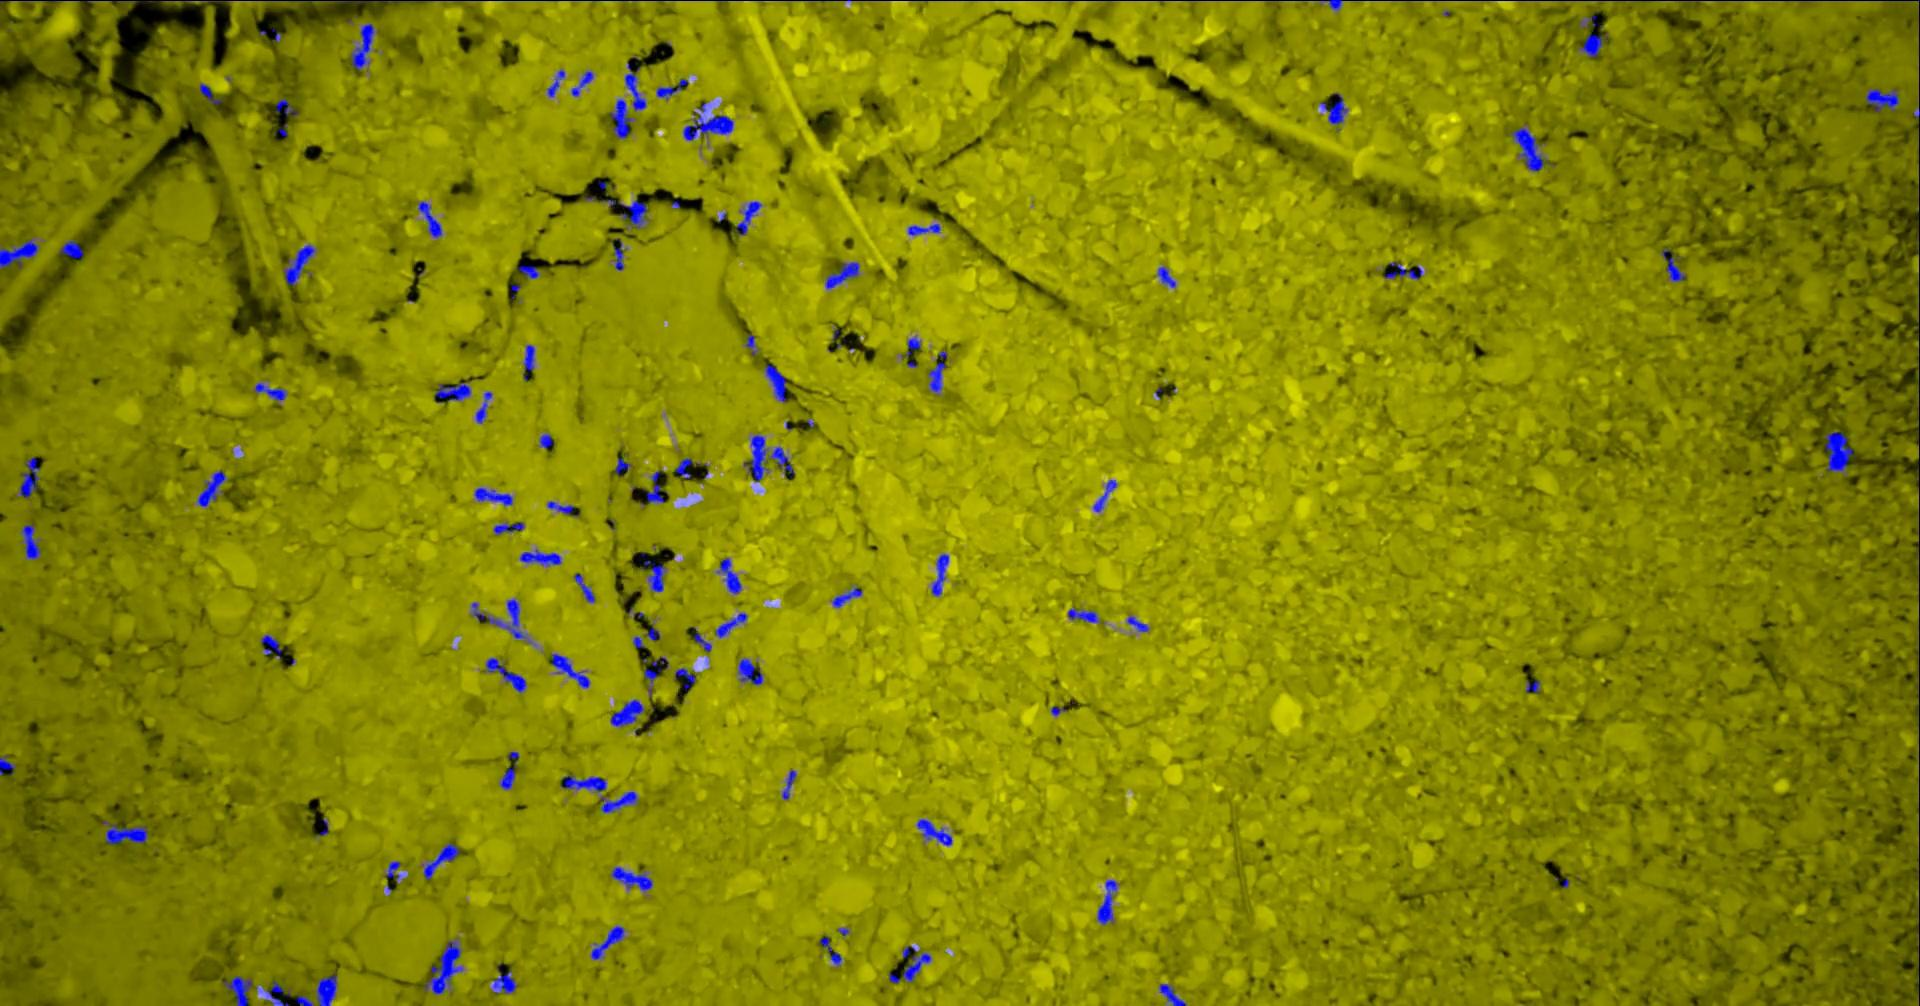ant: (743, 434, 792, 481), (471, 600, 527, 639), (424, 941, 462, 995), (682, 102, 733, 140), (1509, 127, 1547, 171), (888, 946, 930, 983), (485, 657, 526, 692), (1882, 0, 1919, 37), (599, 199, 648, 227), (295, 973, 337, 1005), (422, 843, 458, 879), (551, 653, 589, 687), (283, 244, 315, 285), (1823, 431, 1853, 473), (349, 23, 375, 70), (590, 925, 623, 959), (0, 238, 38, 267), (643, 655, 668, 697), (102, 821, 147, 843), (623, 62, 645, 111), (196, 470, 225, 506), (15, 457, 41, 498), (610, 866, 651, 890), (824, 260, 858, 290), (1096, 879, 1117, 925), (640, 553, 665, 591), (610, 699, 644, 727), (916, 818, 951, 845), (417, 201, 442, 238), (1319, 91, 1347, 124), (716, 558, 742, 593), (221, 976, 251, 1005), (610, 98, 631, 138), (735, 199, 761, 234), (1660, 246, 1685, 281), (927, 351, 947, 392), (433, 379, 470, 401), (1092, 479, 1117, 511), (714, 612, 747, 636), (764, 365, 786, 401), (1864, 88, 1898, 111), (599, 791, 637, 812), (931, 553, 949, 596), (655, 77, 688, 100), (560, 775, 606, 791), (1383, 260, 1421, 279), (474, 486, 512, 506), (499, 751, 518, 789), (1578, 33, 1608, 57), (20, 525, 41, 559), (519, 549, 561, 565), (573, 573, 596, 602), (830, 586, 861, 607), (644, 470, 664, 502), (737, 658, 762, 683), (265, 981, 291, 1005), (819, 936, 841, 964), (491, 970, 517, 993), (571, 70, 593, 97), (1159, 983, 1186, 1005), (254, 382, 286, 400), (691, 625, 711, 652), (475, 391, 491, 423), (546, 69, 564, 97), (260, 634, 281, 658), (1067, 607, 1098, 622), (198, 83, 221, 103), (674, 457, 697, 478), (781, 768, 796, 799), (58, 239, 83, 258), (674, 667, 695, 688), (523, 344, 535, 380), (546, 500, 574, 514), (276, 98, 297, 116), (1157, 265, 1175, 287), (902, 337, 919, 358), (907, 224, 940, 235), (1126, 615, 1149, 631), (493, 522, 524, 533), (613, 239, 623, 271), (0, 754, 15, 775), (385, 861, 400, 882), (517, 264, 538, 278), (643, 622, 659, 640), (615, 457, 631, 474), (538, 433, 552, 448), (1321, 0, 1341, 10), (745, 334, 756, 354), (1525, 680, 1540, 692), (286, 0, 430, 1), (632, 636, 644, 648), (1917, 619, 1919, 702), (1917, 547, 1919, 601)
